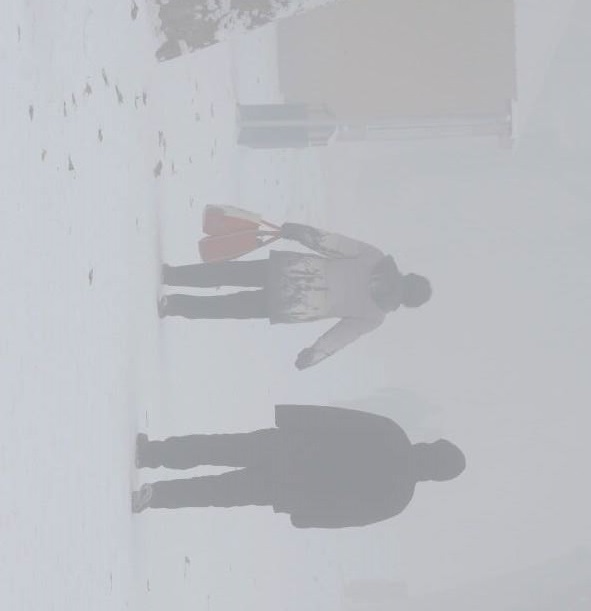person: (130, 401, 467, 532), (157, 220, 433, 374)
